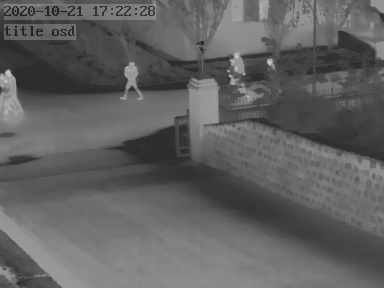person: (1, 66, 20, 114), (123, 57, 140, 97), (230, 51, 246, 85)
